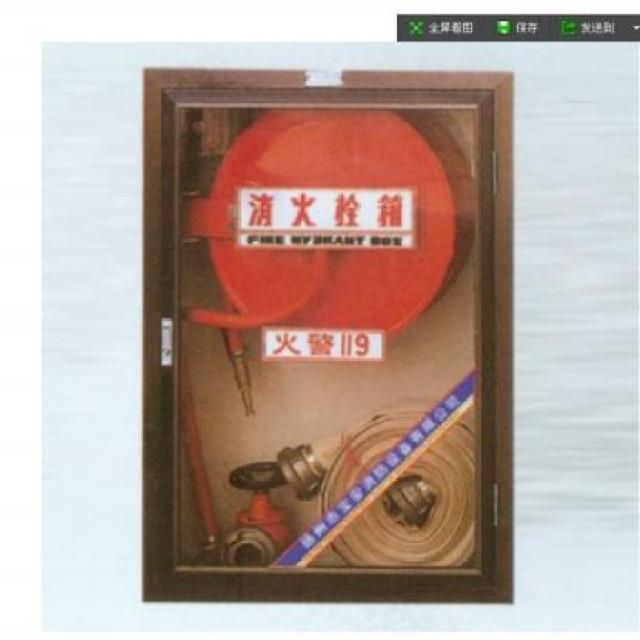firehydrant: (135, 62, 522, 610)
